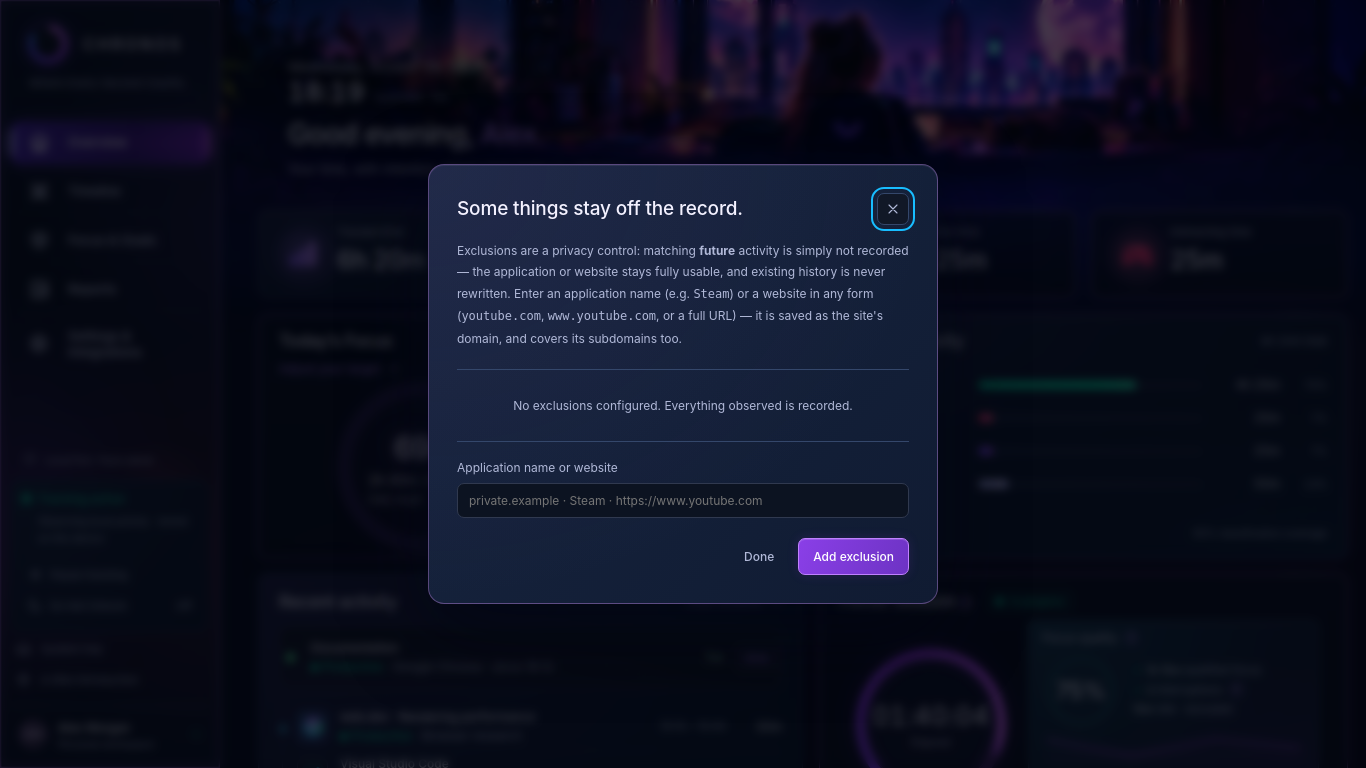
exclusion management (regression: URL-shaped exclusions never matched; no removal) › normalizes URL input to the domain, lists entries, and removes them with feedback
Type "https://www.youtube.com/" into the field with placeholder "private.example · Steam · https://www.youtube.com" at (683, 501), box x1=457 y1=484 x2=909 y2=518
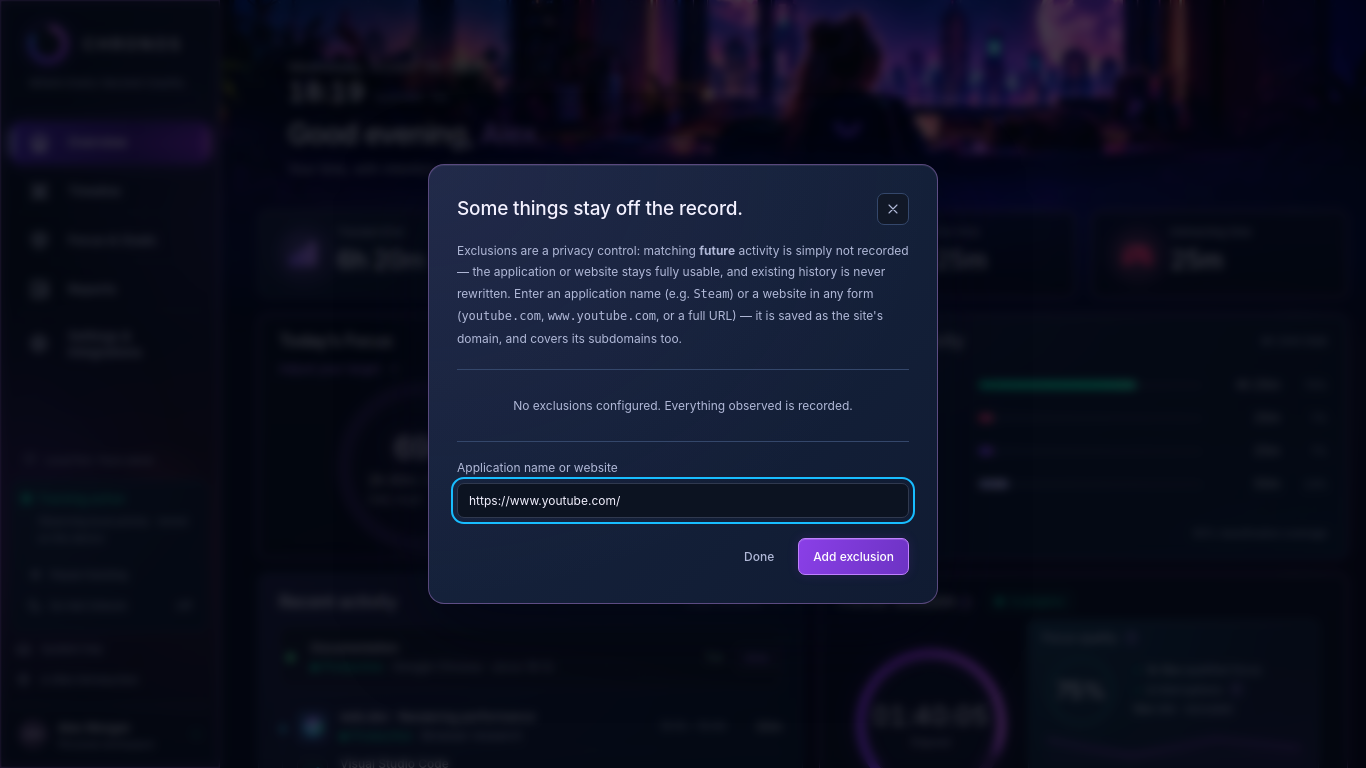
Click the button "Add exclusion" at (854, 557), box x1=798 y1=538 x2=909 y2=576
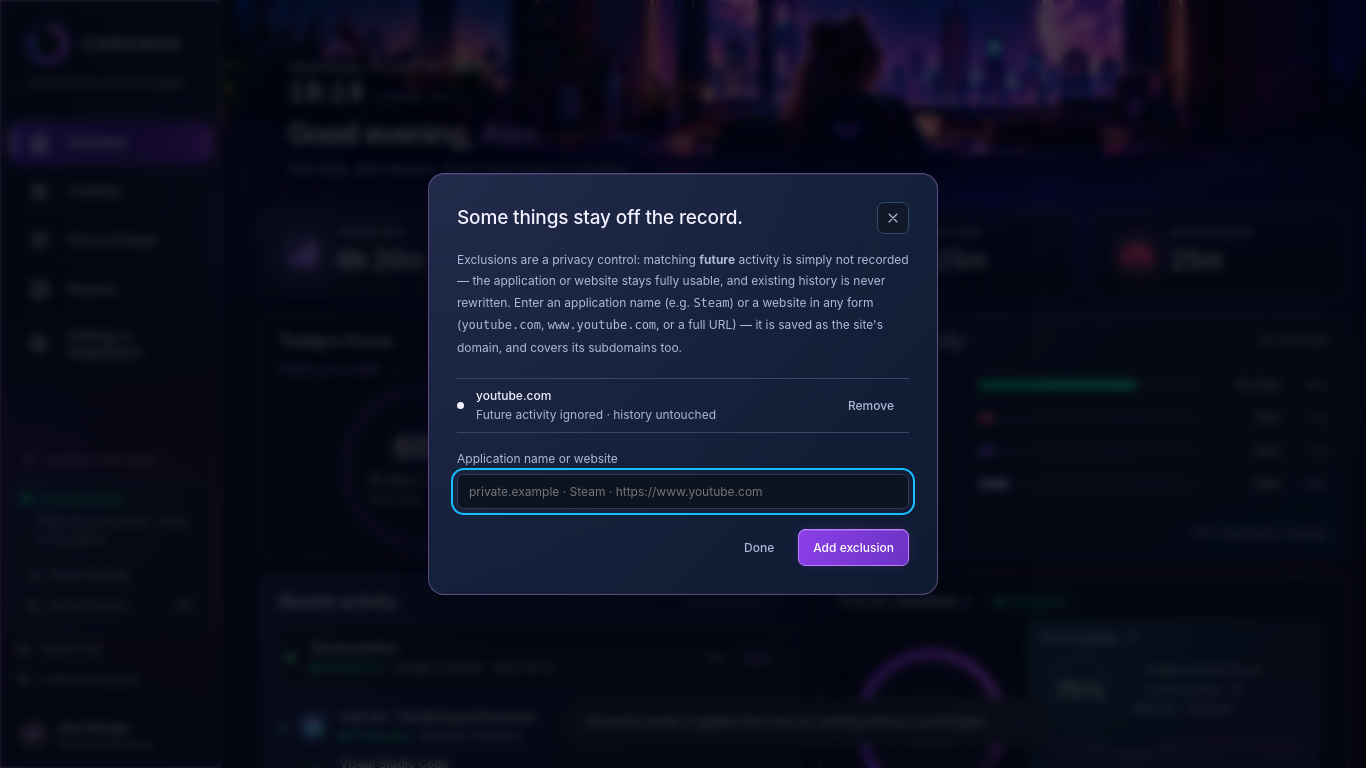
Expected: the text "youtube.com" next to "www.youtube.com" is shown, x1=461 y1=318 x2=541 y2=332
// Removal via the manager: immediate feedback, entry gone, list empty-state shown.
Click the button "Remove" at (871, 406), box x1=833 y1=388 x2=909 y2=424
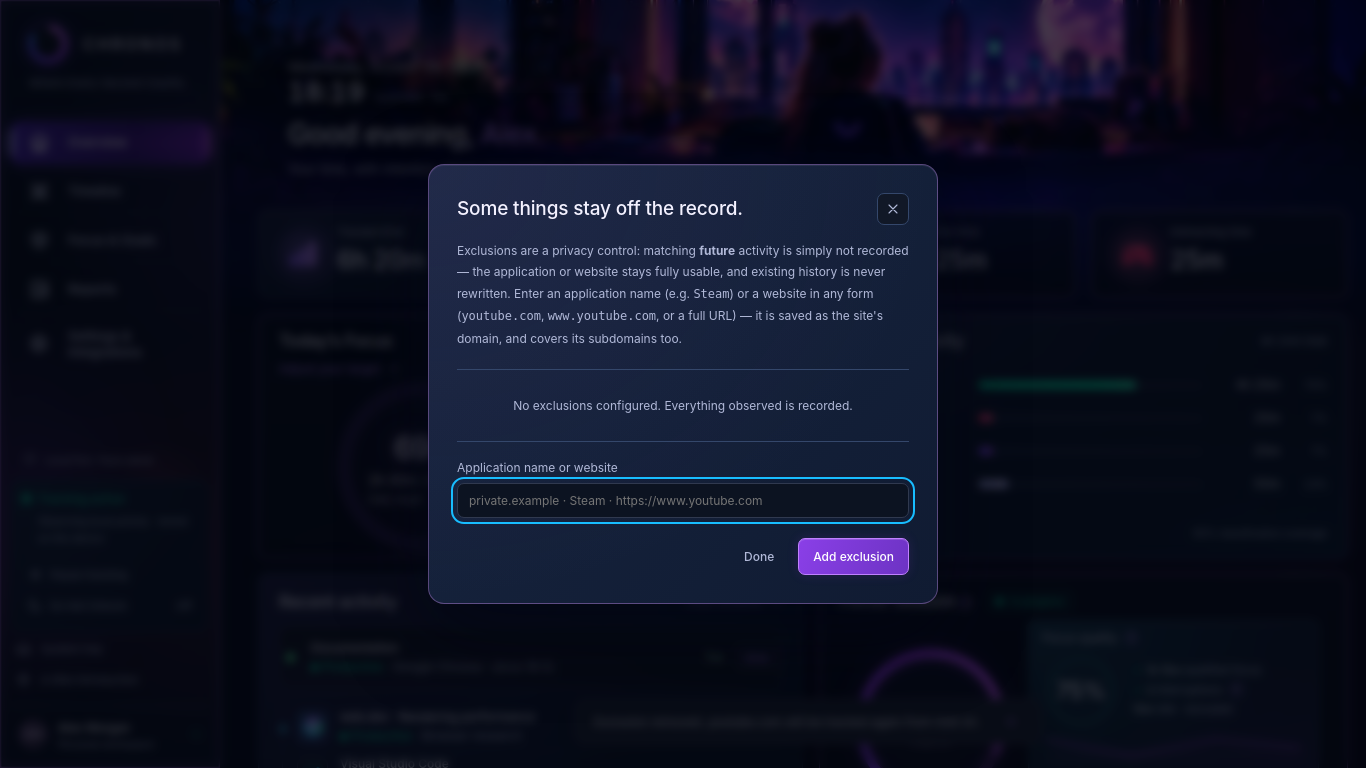
Expected: the text "No exclusions configured. Everything observed is recorded." is shown, x1=513 y1=398 x2=853 y2=414
